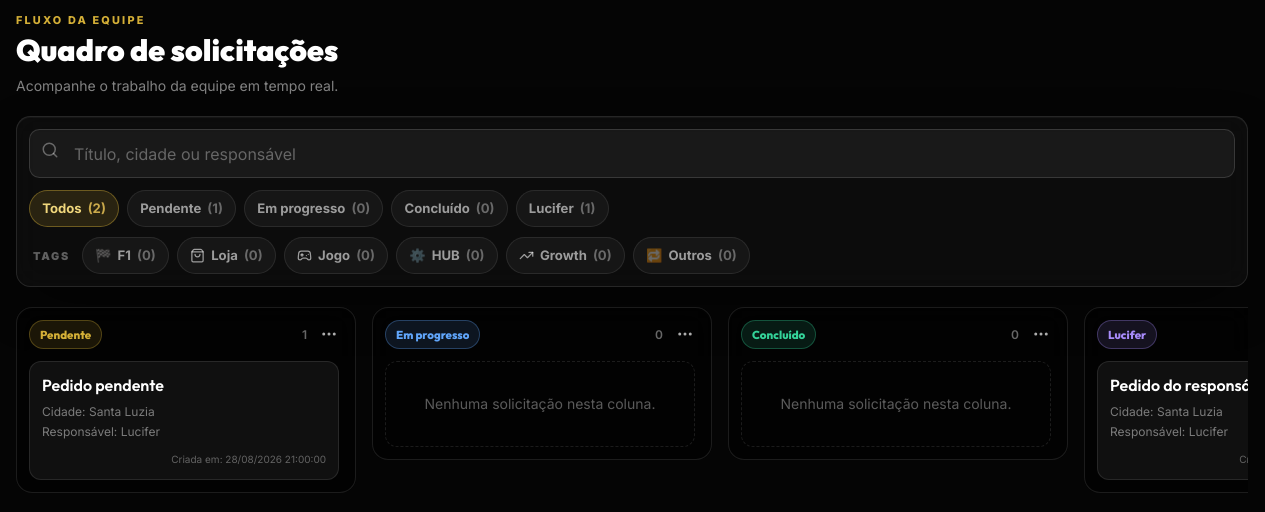
Scenario: KanbanBoard › abre a renomeação ao clicar no nome de uma lista de sistema
This screenshot has width=1265, height=512.
What coordinates should you click on to do the following:
click the button with aria-label "Renomear lista Pendente"
I would click on:
 (66, 335)
Its box is [40,326,91,344].
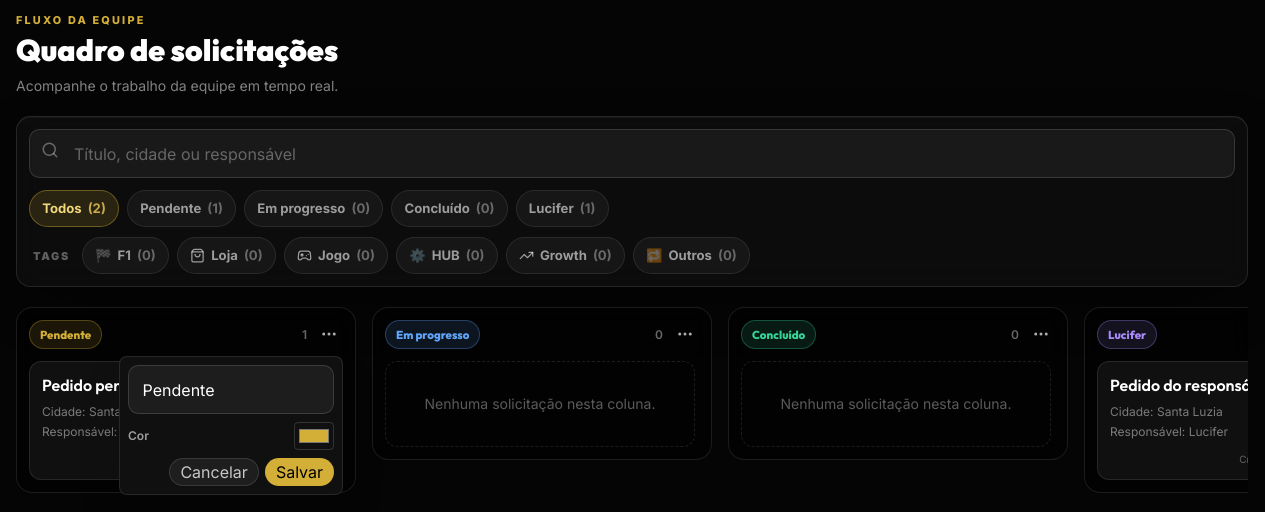
Expected: the field named "Novo nome da lista" holds "Pendente", [128,365,334,414]
